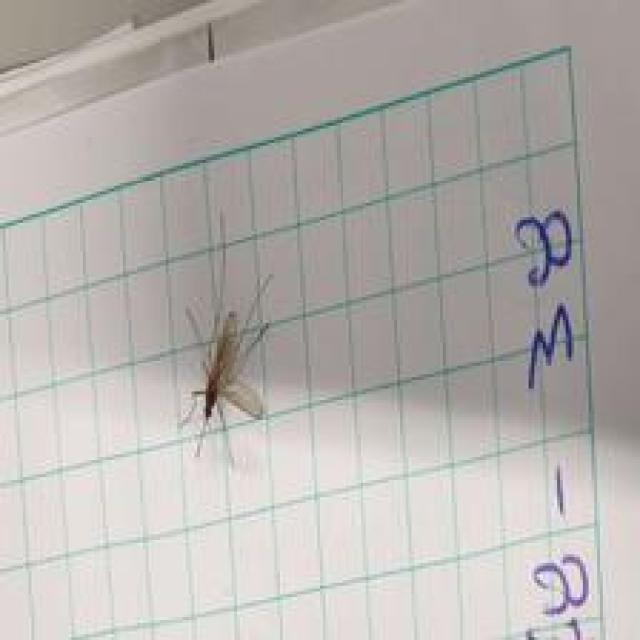Culex: (176, 210, 273, 467)
